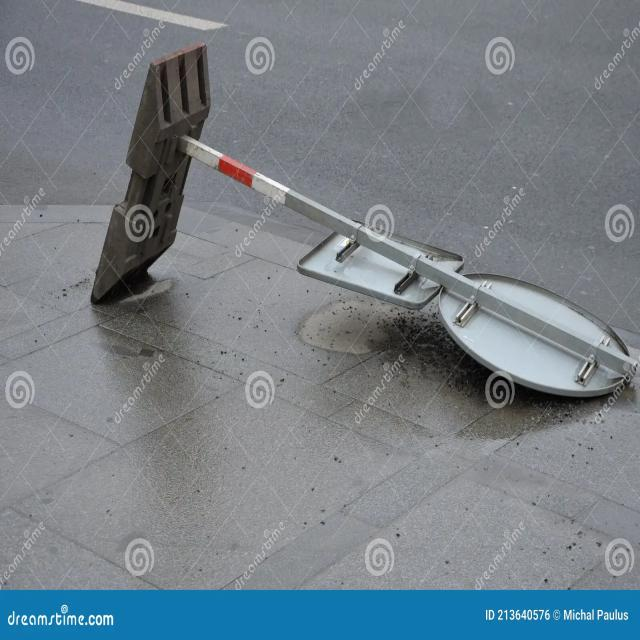Inclined Pole: (85, 35, 638, 405)
